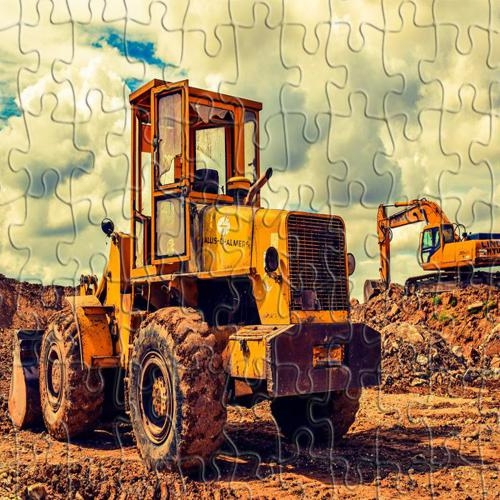con_eq: (14, 81, 382, 471), (374, 196, 500, 296)
